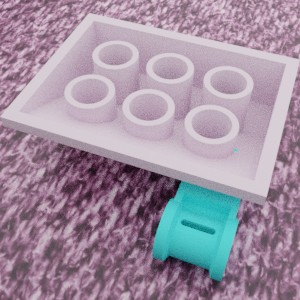lego: (0, 13, 300, 205), (152, 143, 249, 281)
